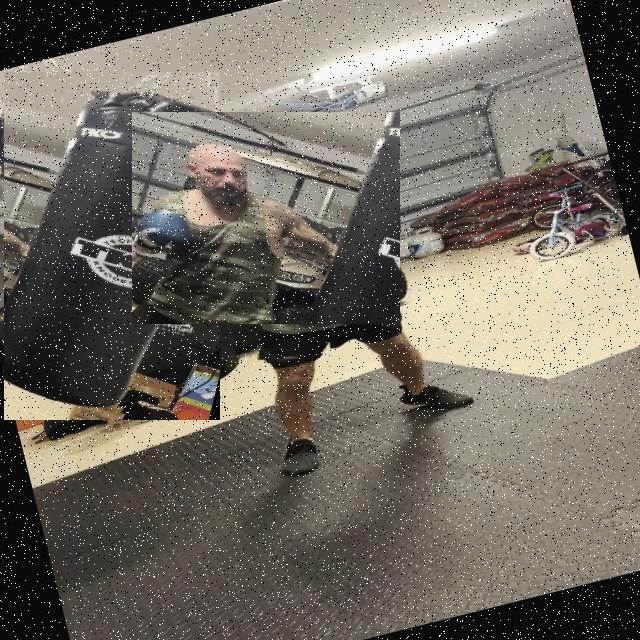punch: (132, 112, 400, 324)
